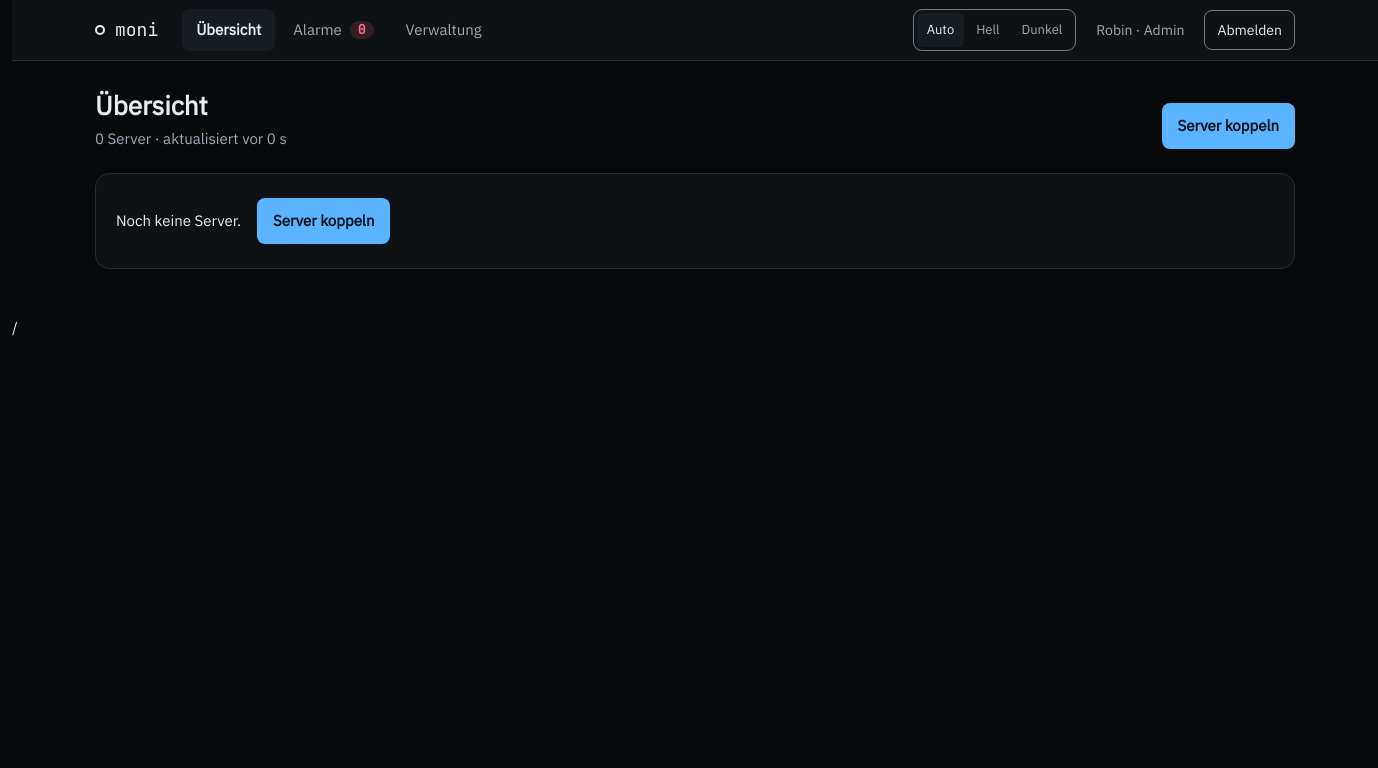
Scenario: Sitzung › abmelden meldet ab, auch wenn der Manager nicht antwortet
This screenshot has width=1378, height=768.
Click the button "Abmelden" at (1250, 30), box [1204,10,1295,50]
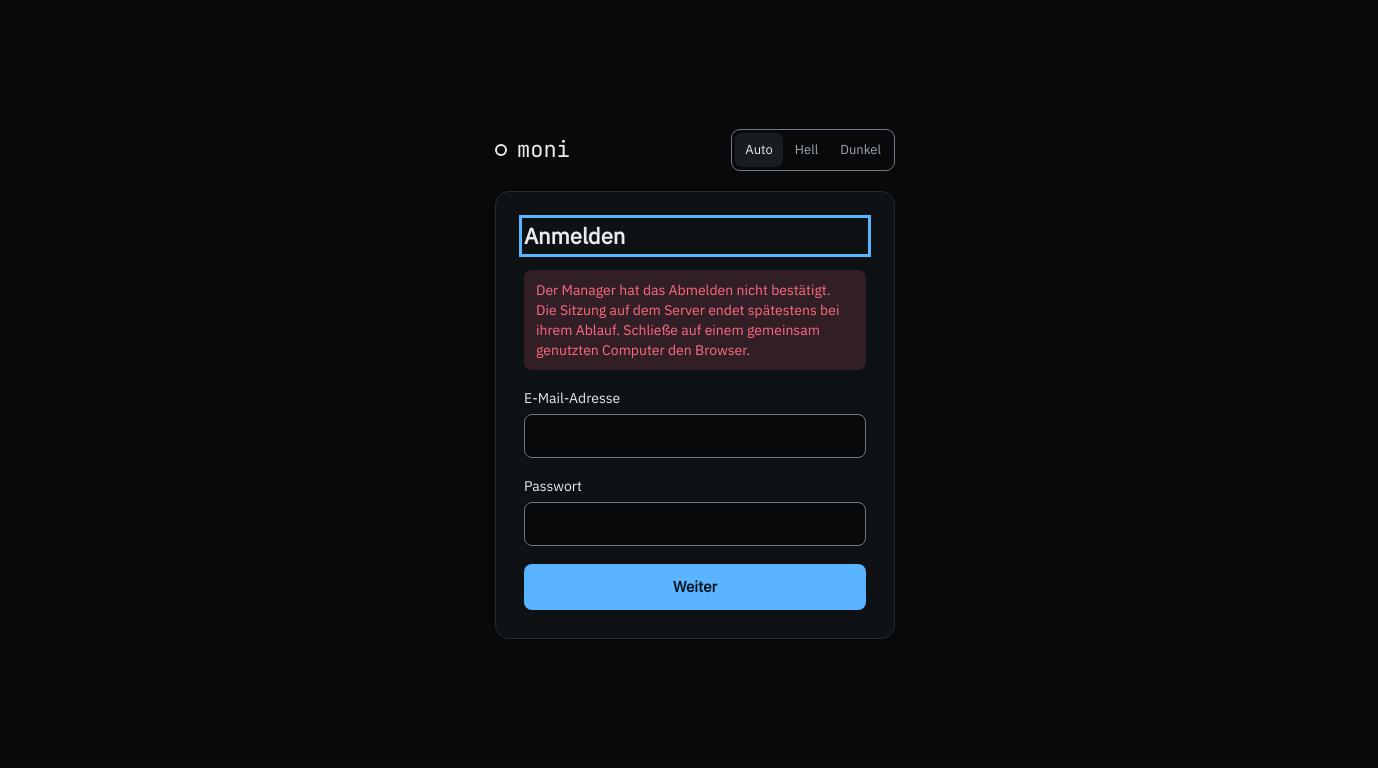
Now the heading "Anmelden" is shown, box [524,221,625,250]
Now the message shows "Der Manager hat das Abmelden nicht bestätigt", box [536,281,839,359]
